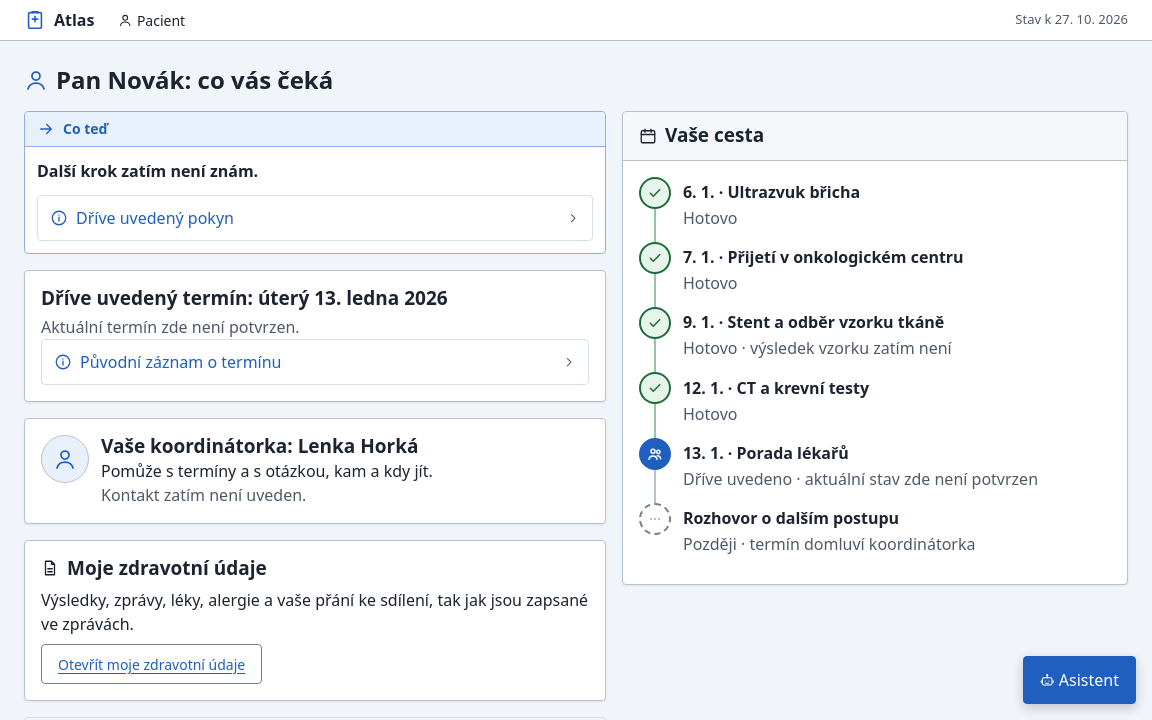
Test case: assistant dialog › patient default preview never counts as an explicit assistant selection
Click the button "Asistent" at (1080, 680), box [1024,656,1136,704]
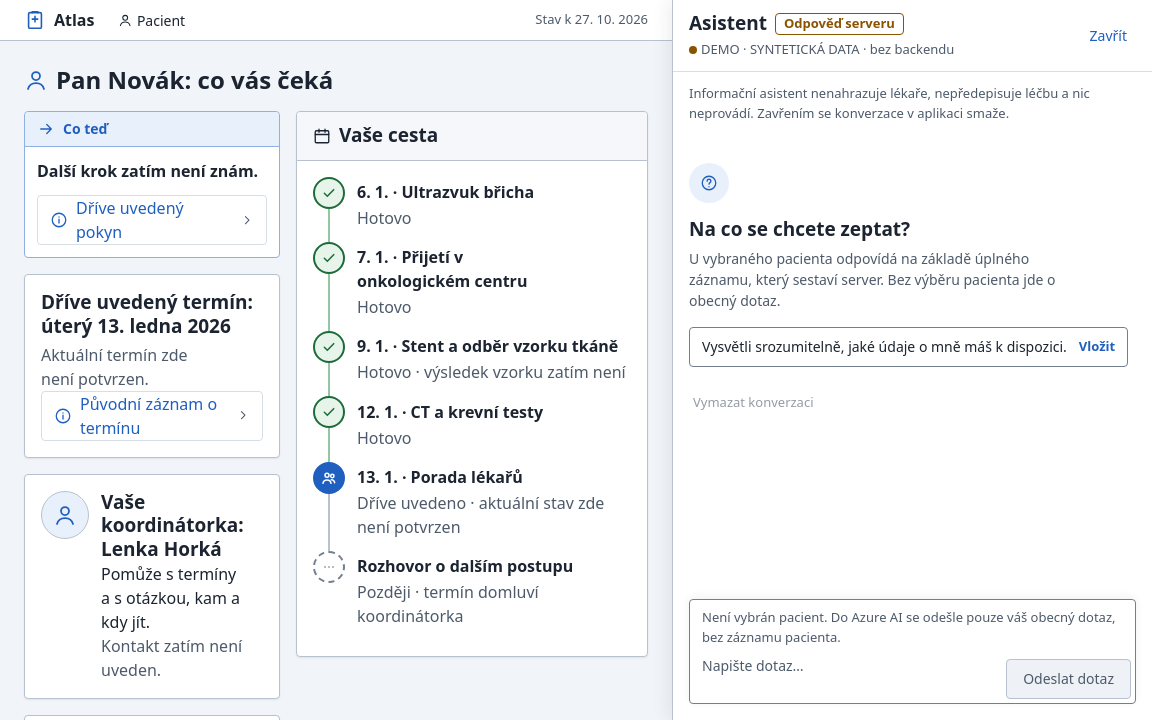
Expected: the text "Není vybrán pacient" is shown, [702,608,1116,646]
Type "Obecný dotaz" into the text box named "Váš dotaz" at (846, 675), box [690,647,1002,703]
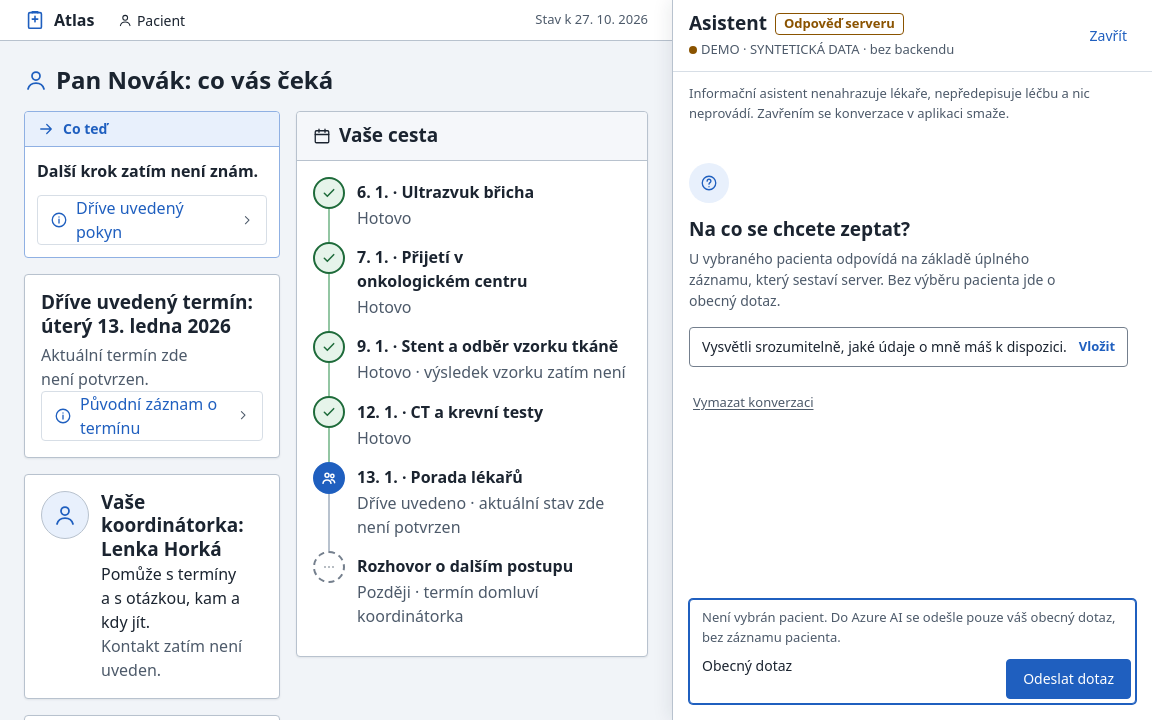
Click the button "Odeslat dotaz" at (1069, 679), box [1006,659,1131,699]
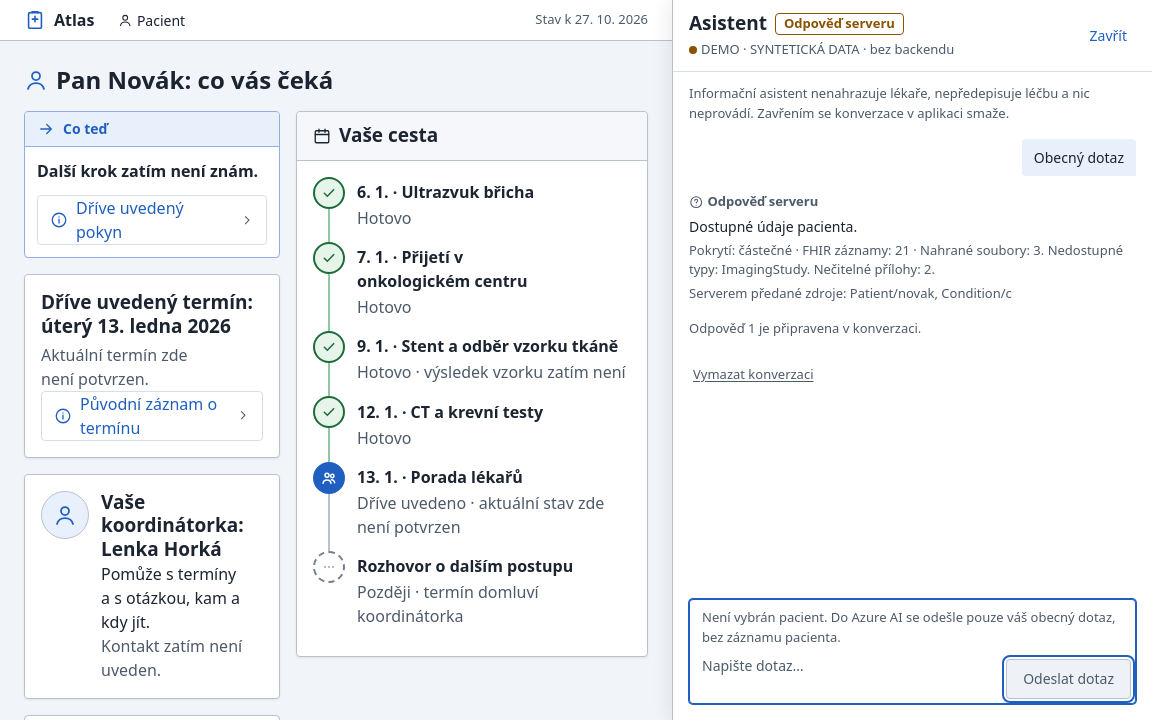
Expected: the text "Dostupné údaje pacienta." is shown, [689,217,857,236]
